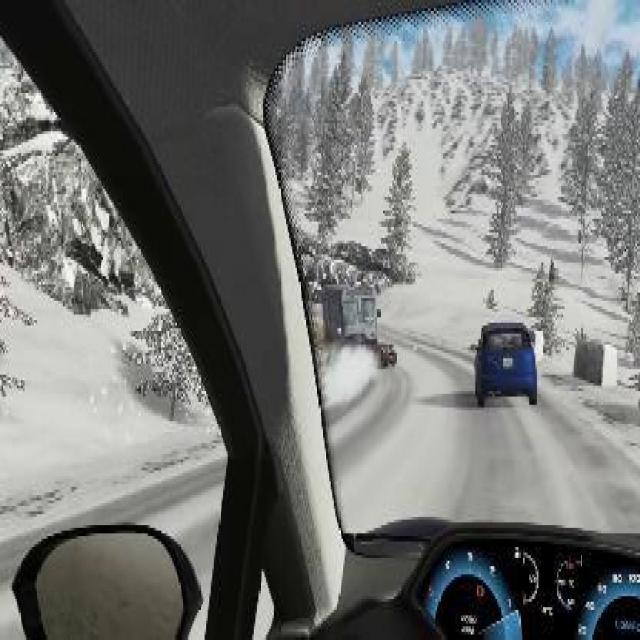accident: (312, 276, 398, 367)
